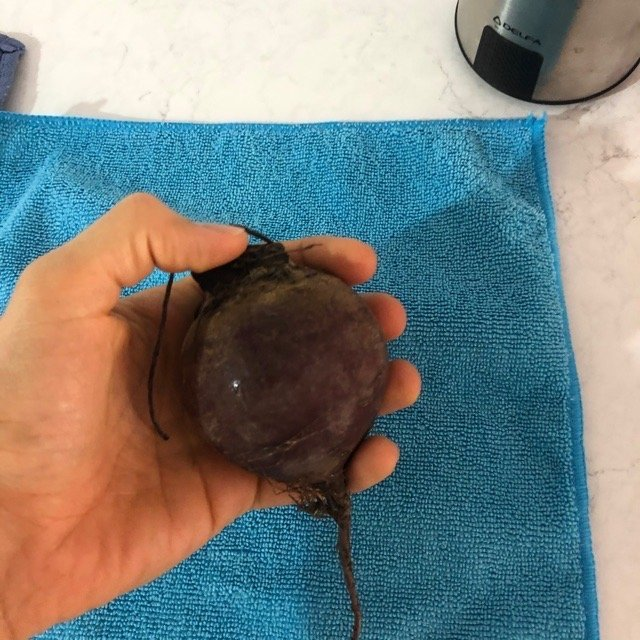beet: (149, 225, 389, 640)
